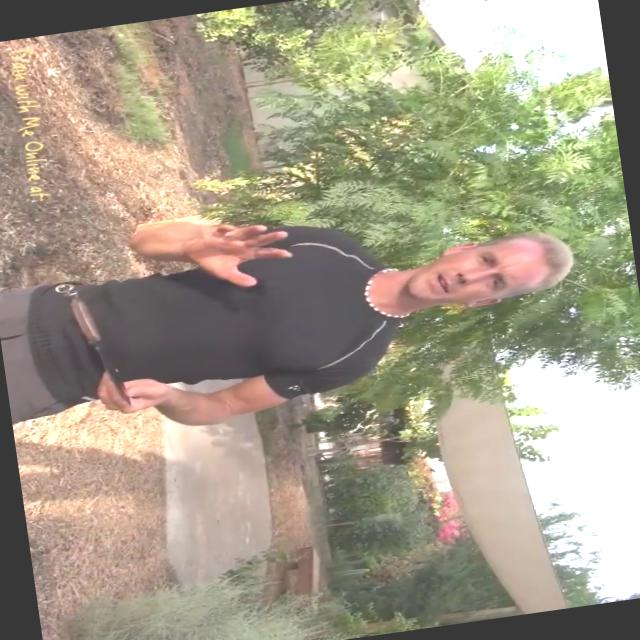knife: (34, 261, 139, 418)
